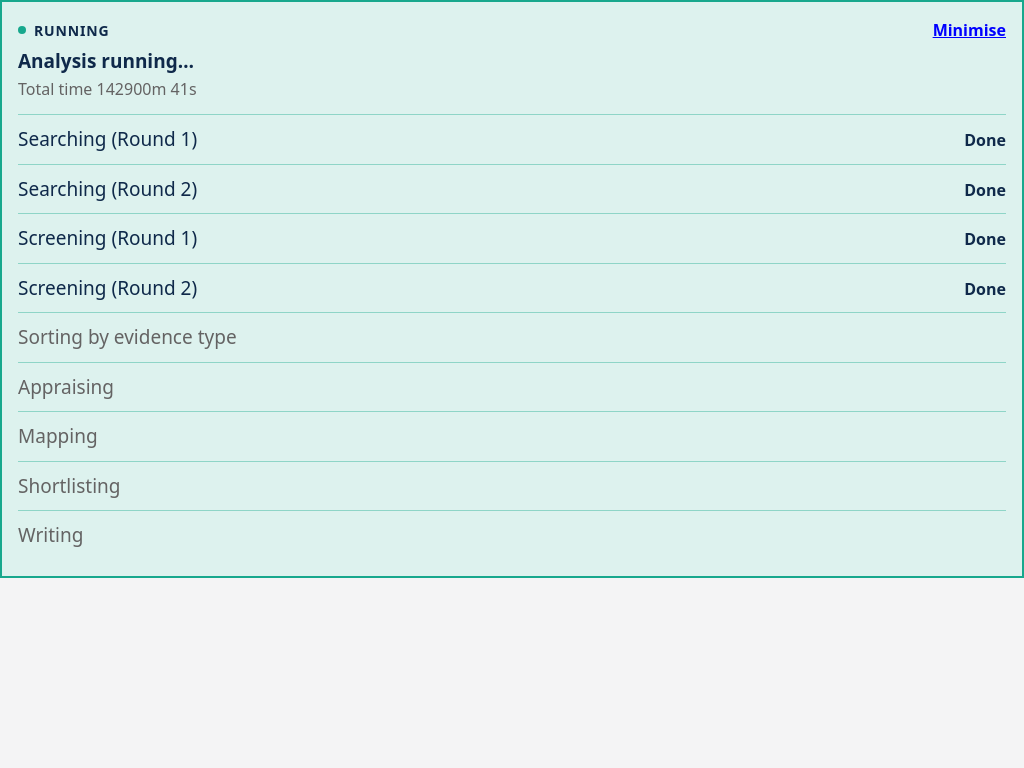
it: RunningCard › expands only the Searching round that was clicked
Click the button "Searching (Round 2) Done". click: [108, 189]
box: [18, 165, 1006, 213]
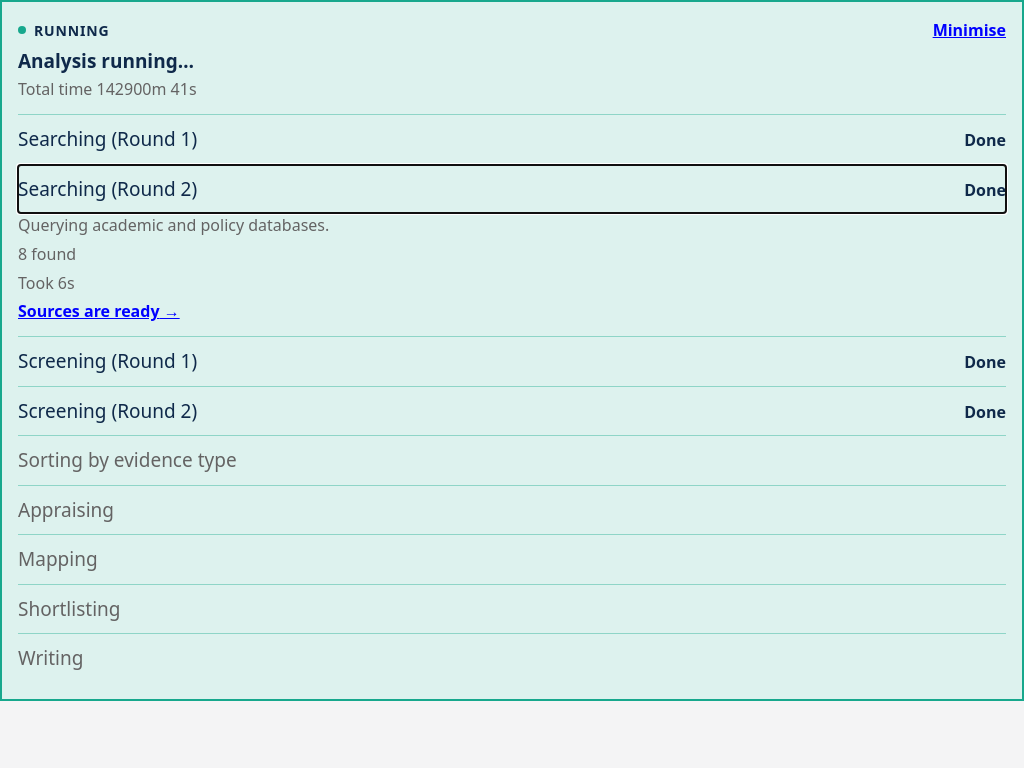
expect the text "Took 6s" is shown: met, box [18, 272, 75, 294]
Click the button "Screening (Round 1) Done". click: [108, 361]
box: [18, 337, 1006, 386]
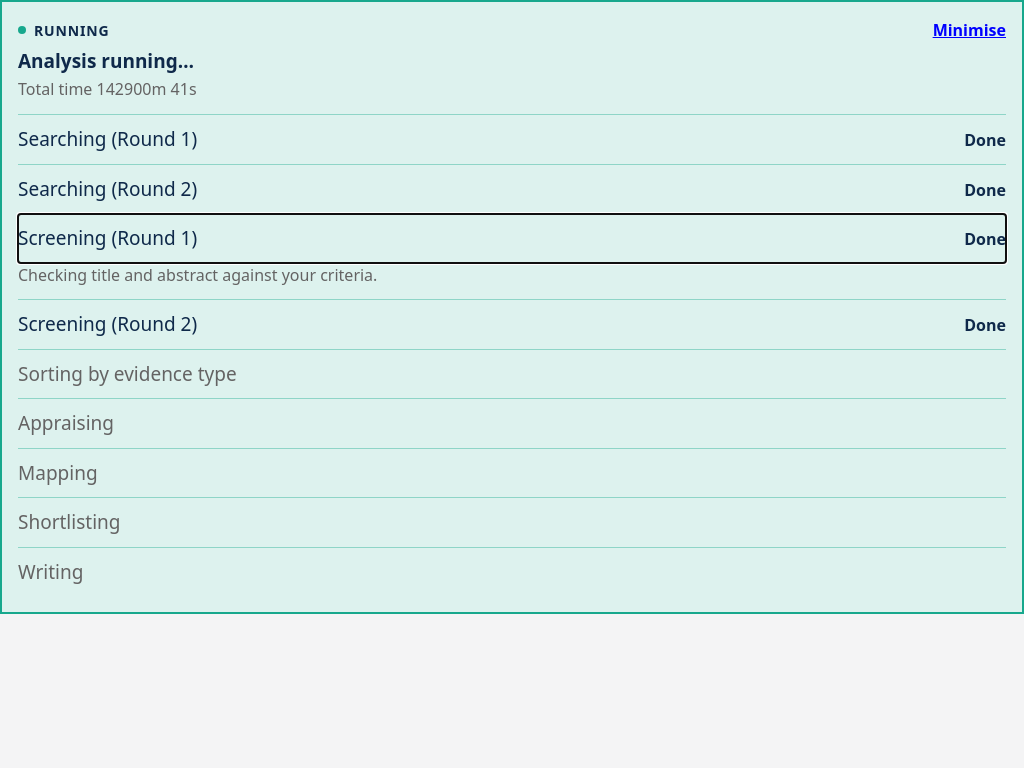
expect the button "Screening (Round 1) Done" is expanded: met, box [18, 214, 1006, 263]
